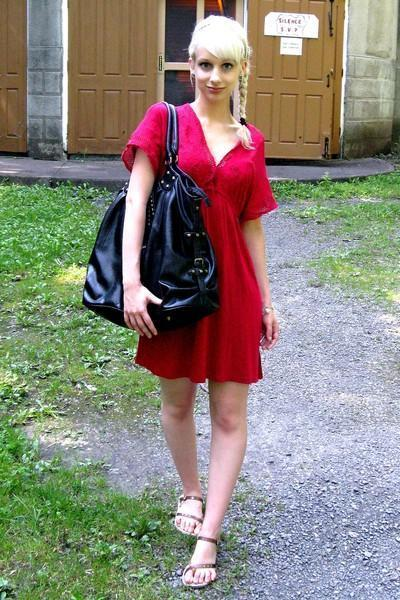bag: (82, 165, 220, 334)
dress: (122, 104, 278, 391)
